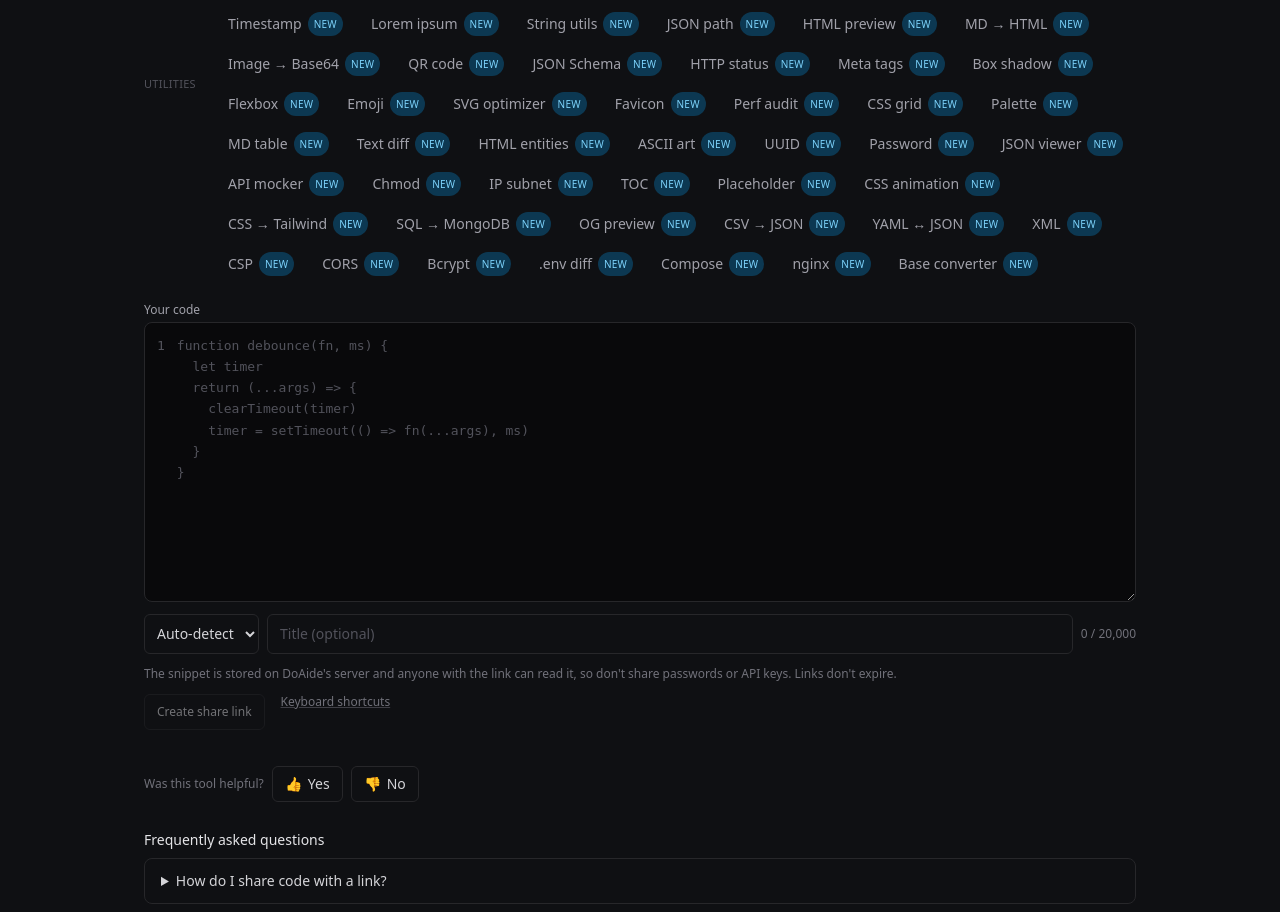
Scenario: SharePage › shows the server error when creation fails
(page scrolled)
Replace the text in the text box with test id "share-code" with "x = 1" at (654, 462), box 173,323 -> 1135,600
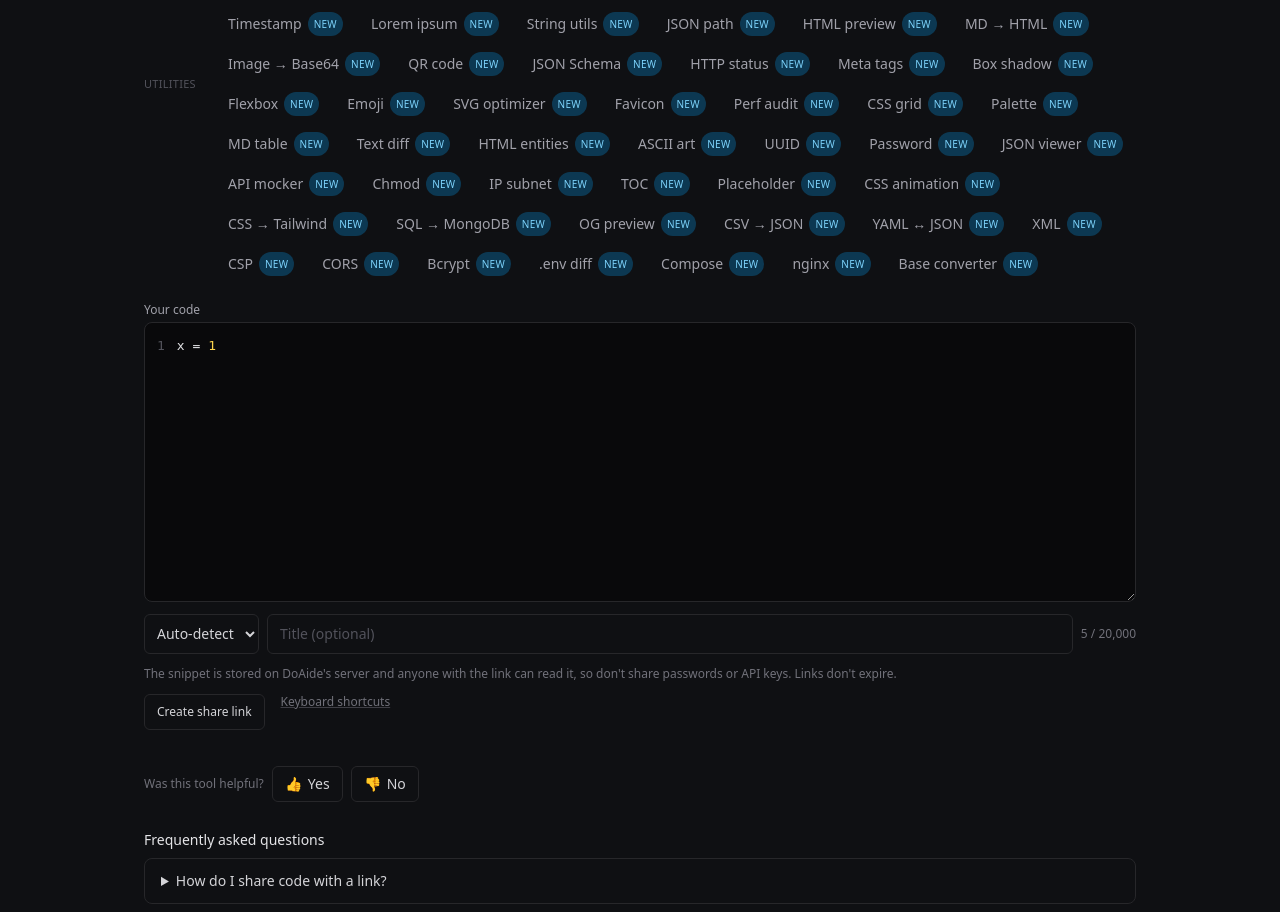
Click the button with test id "share-run".
click(204, 712)  # box 144,694 -> 264,730
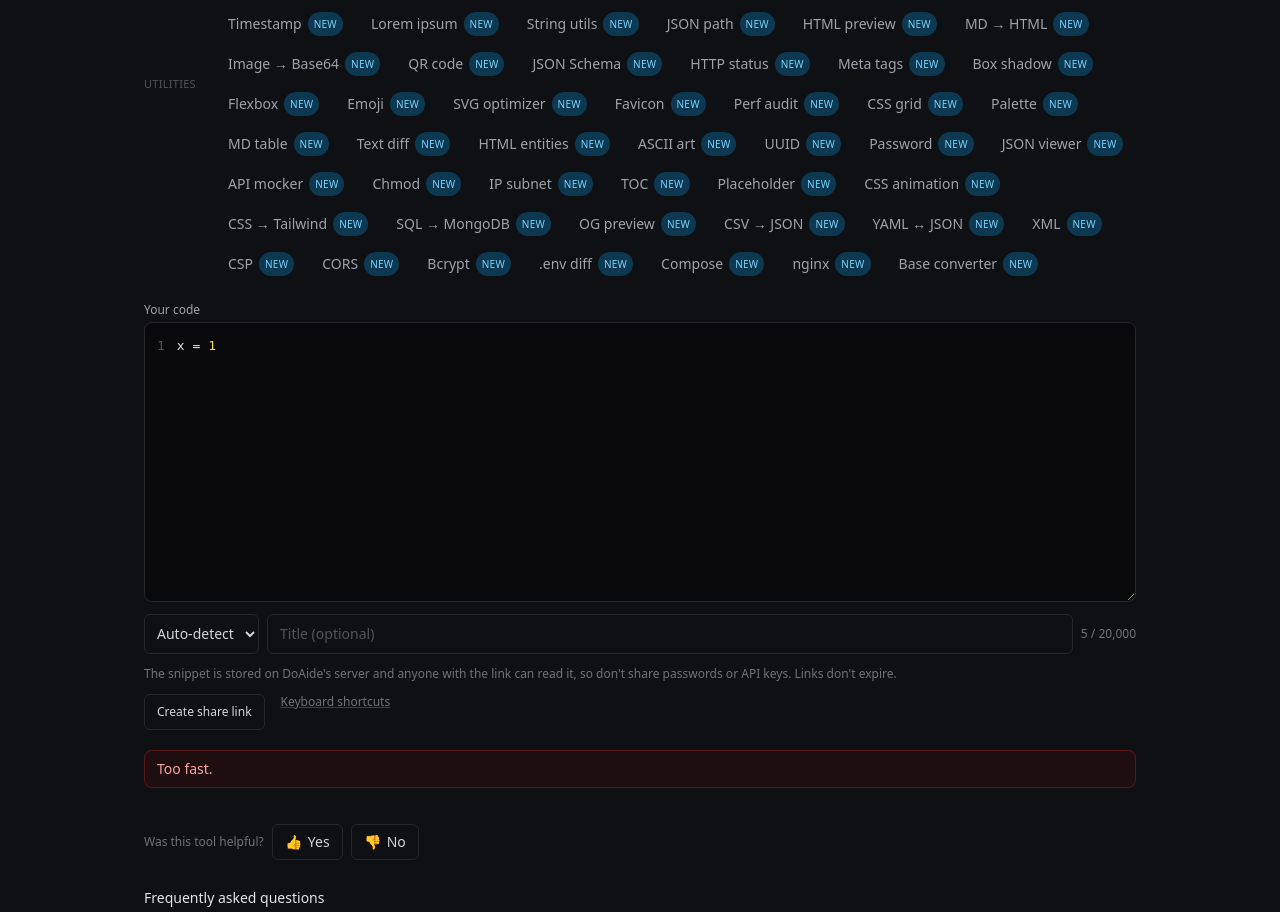
Check: the message reads "Too fast.", box 157,758 -> 213,778
